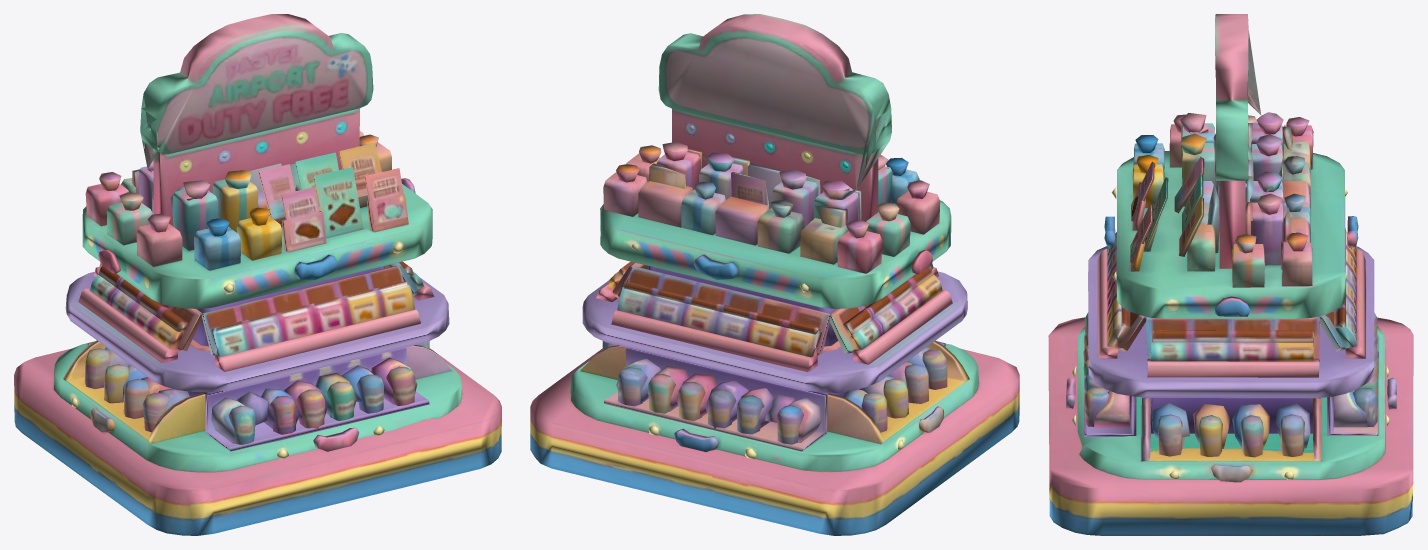
File: airport-dutyfree-shelf.glb
3 views of the same model, side by side, from view 1: azimuth 30°, elevation 25°; view 2: azimuth 150°, elevation 25°; view 3: azimuth 270°, elevation 25° (orthographic). The views are drawn at different scales.
Visible parts, largest first — view 1: geometry_0; view 2: geometry_0; view 3: geometry_0.
Boxes of the visible parts, x1,y1,x2,y2 form: geometry_0: (14,14,501,535); geometry_0: (530,14,1019,535); geometry_0: (1048,14,1413,535).
Bounding box in the file's own units: 0.8833 × 1 × 0.7862.
1 material, 1 textured.
